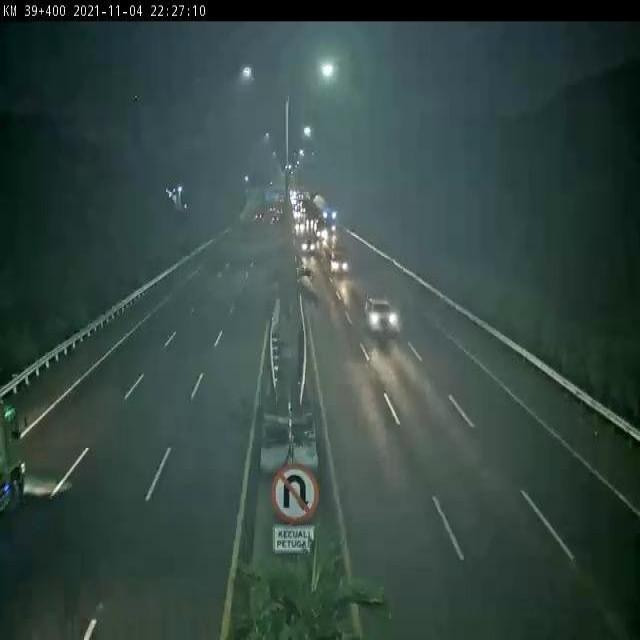car: (365, 296, 397, 333), (330, 254, 349, 274)
